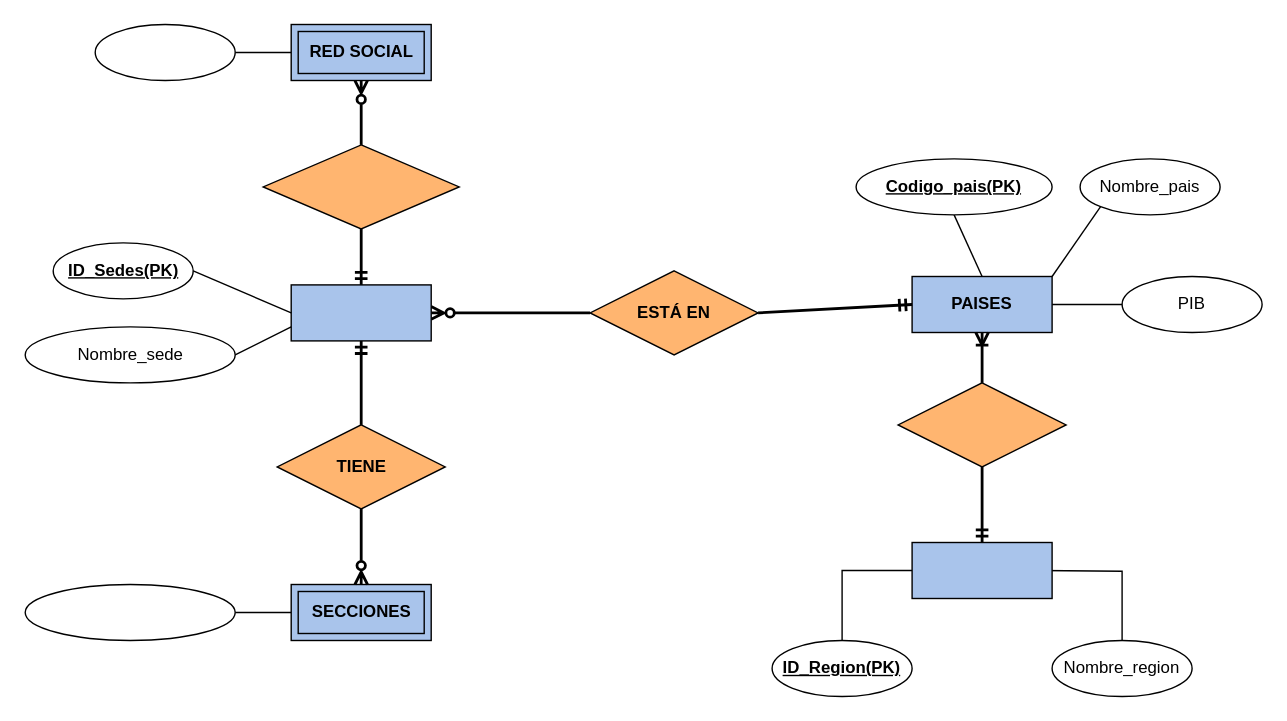
This 1287x721 diagram has some shape labels left out. Each missing label, with the centre of its shape:
"ES UTILIZADA POR" goes at (360,186).
"Nombre_Seccion" goes at (129,611).
"PERTENECE" goes at (981,424).
"Region" goes at (981,569).
"SEDE" goes at (360,312).
"URL(PK)" goes at (164,51).
